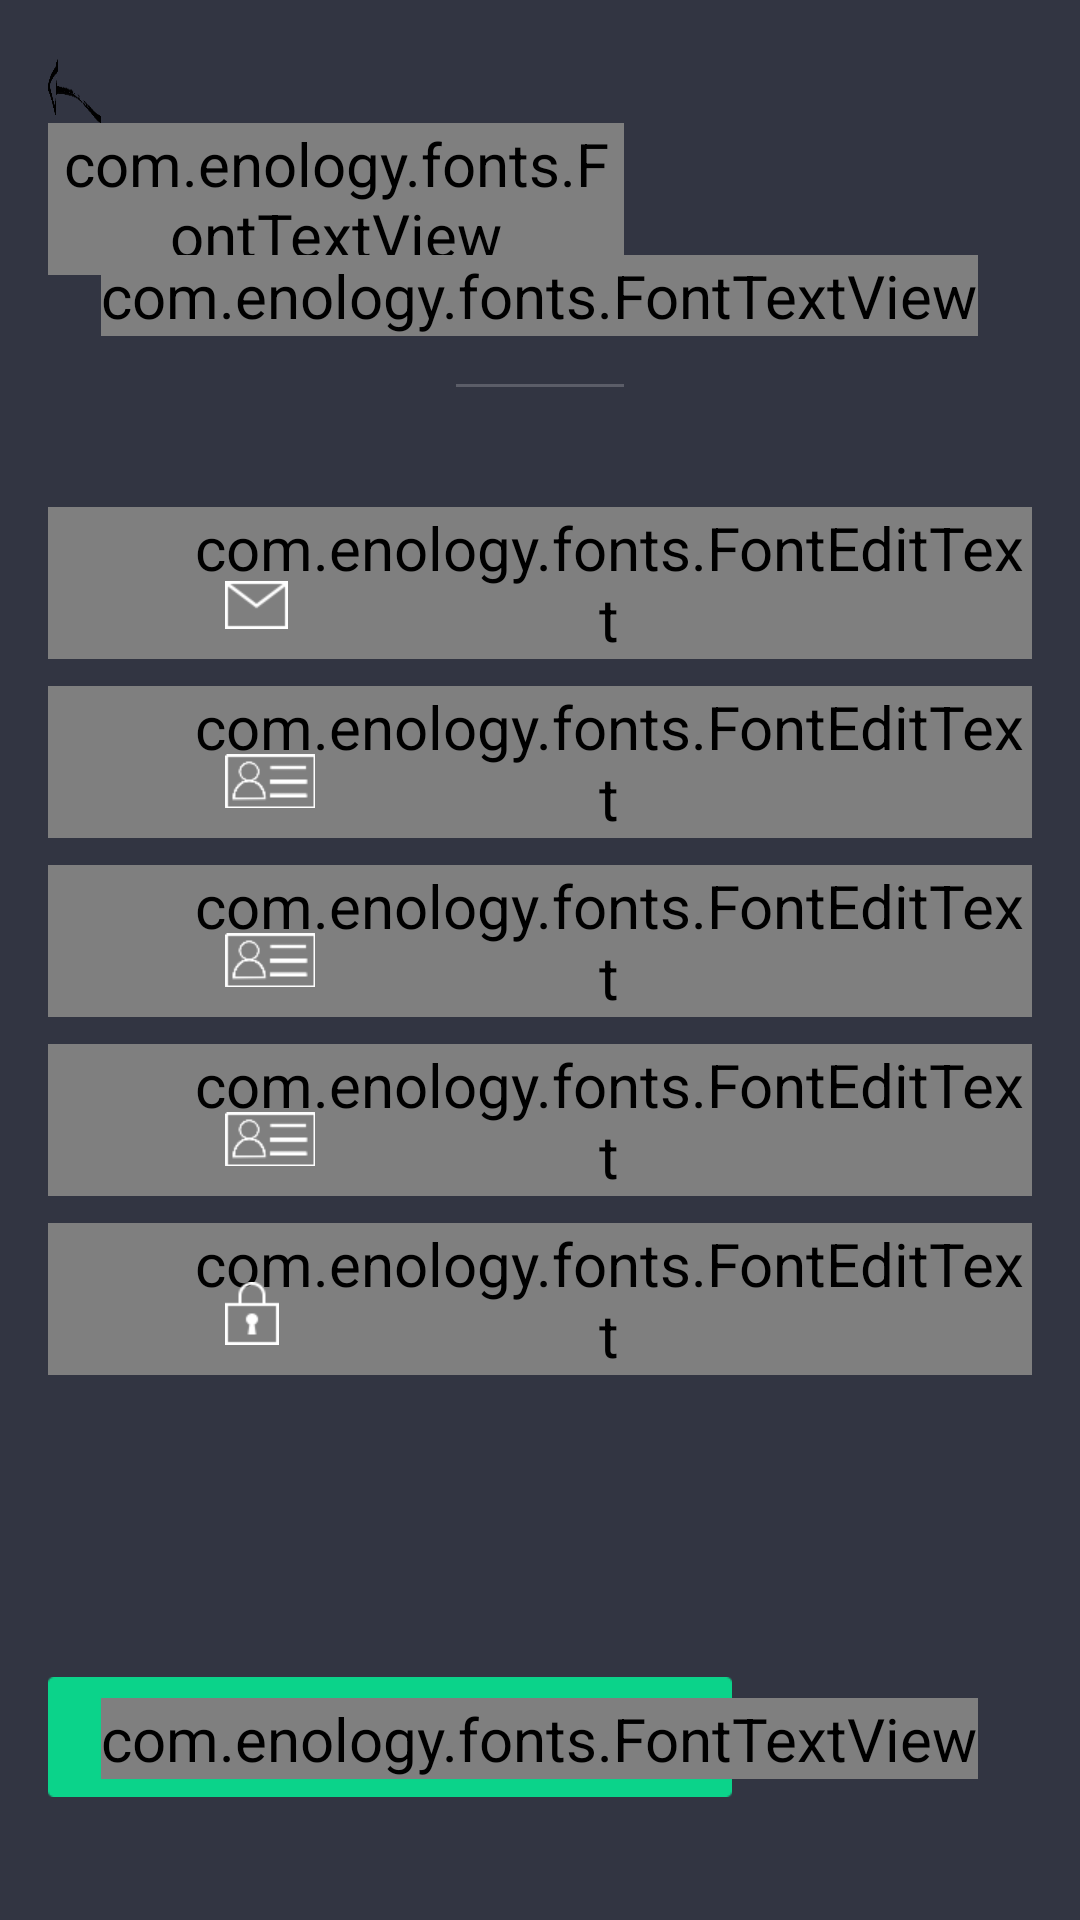

Icon bounding boxes for this 1080 × 1920 phone screenshot, format (x1,y1,x2,y2):
lastfirstname: (225,754,315,808), (225,933,315,987), (225,1112,315,1166)
password: (225,1282,279,1345)
